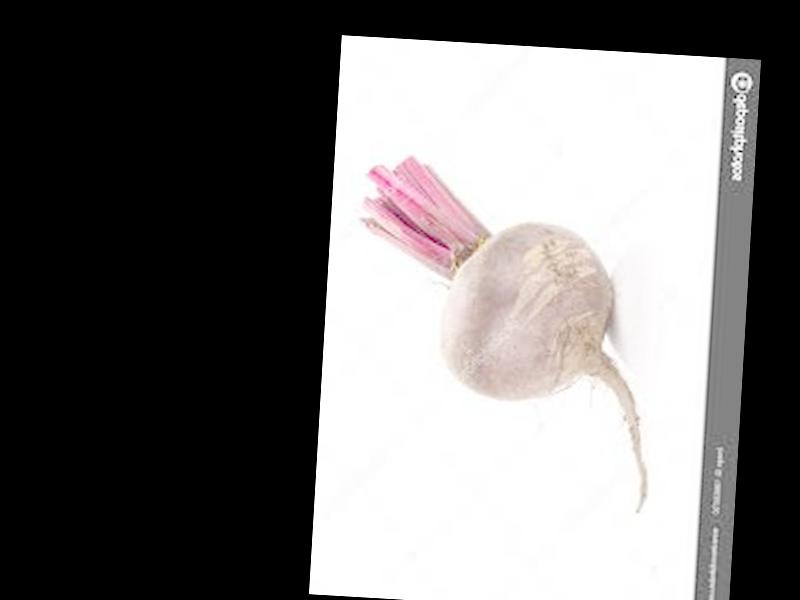Beet: (345, 156, 664, 514)
